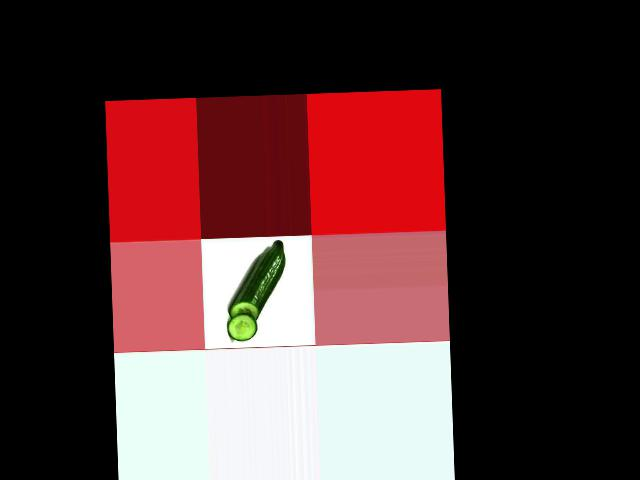cucumber: (226, 240, 287, 322)
